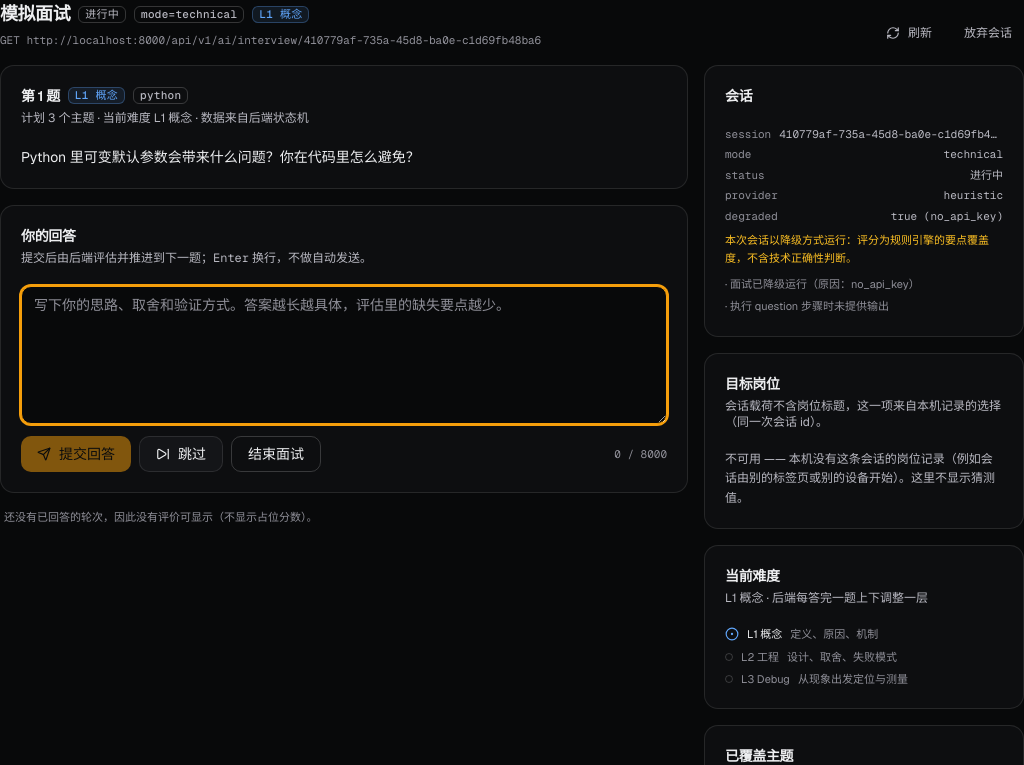
it: a failed turn › keeps the session and the typed answer, and reports the code and request id
Type "我用 None 作为默认值，避免可变对象在多次调用之间被共享。" into the text box named "你的回答".
click(344, 355); type("我用 None 作为默认值，避免可变对象在多次调用之间被共享。")  # box [21,286,667,424]
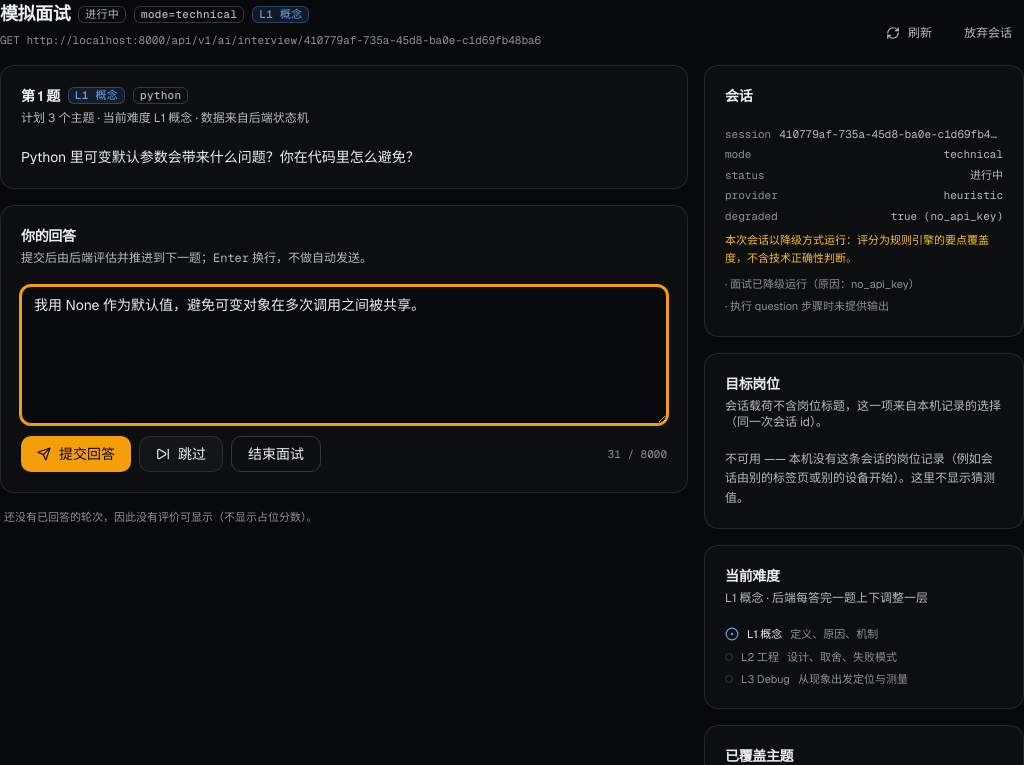
Click the button "提交回答".
click(76, 454)  # box [21,436,131,472]
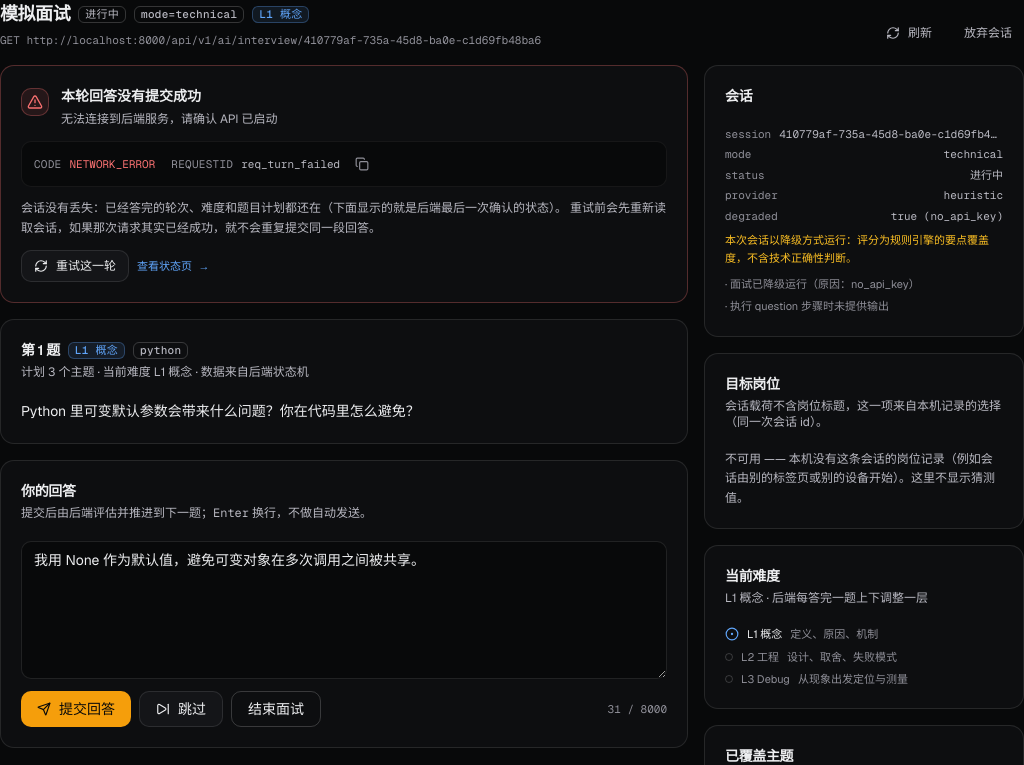
Expected: the text "本轮回答没有提交成功" is shown, [61,86,201,104]
Expected: the text "NETWORK_ERROR" is shown, [70,156,155,172]
Expected: the text "req_turn_failed" is shown, [241,156,340,172]
